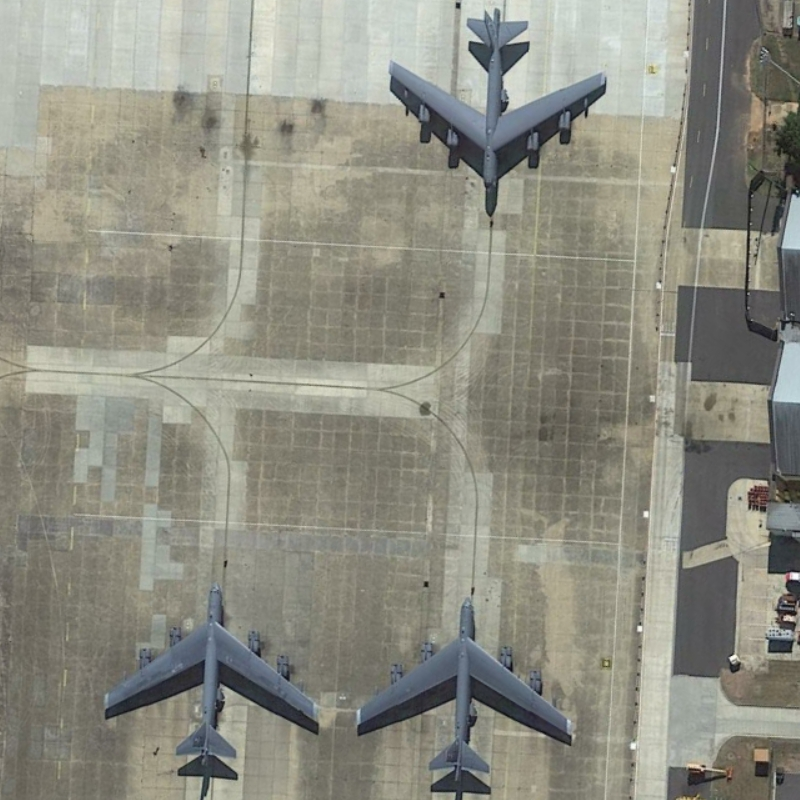A8: (94, 572, 321, 774), (380, 2, 617, 194), (351, 587, 577, 781)
